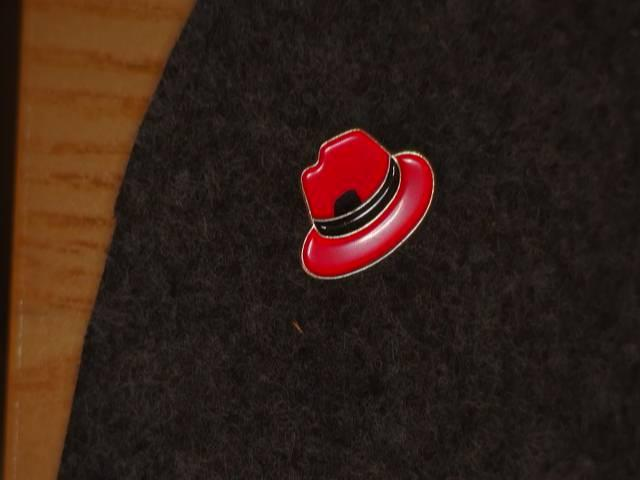Red-Hat: (284, 113, 443, 306)
Scratch: (320, 172, 367, 231)
